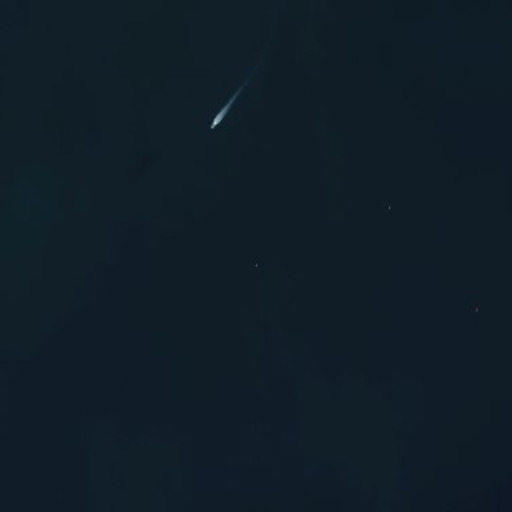ship: (208, 119, 222, 132)
